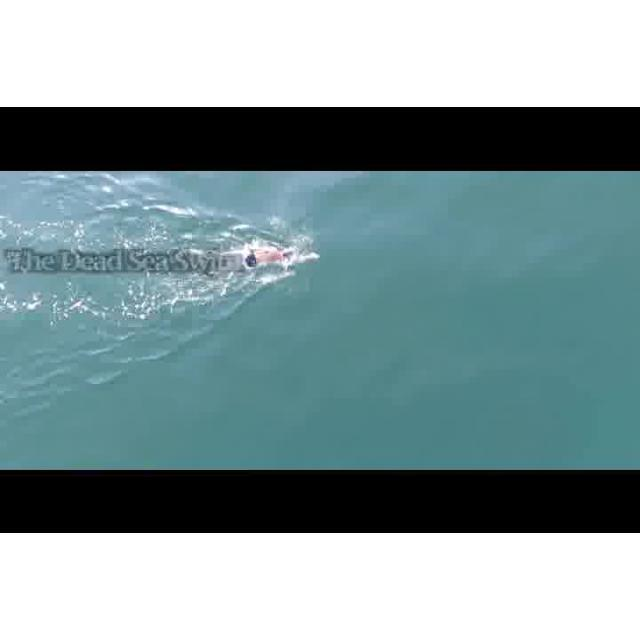human: (241, 241, 317, 270)
